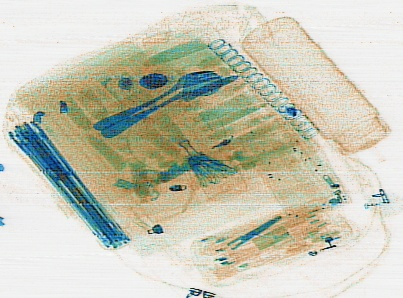scissors: (207, 213, 282, 261)
